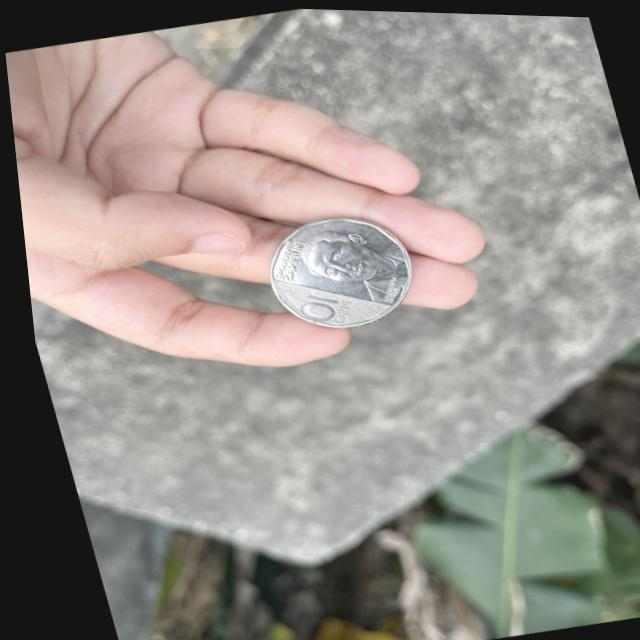10_New_Front: (272, 272, 366, 332)
